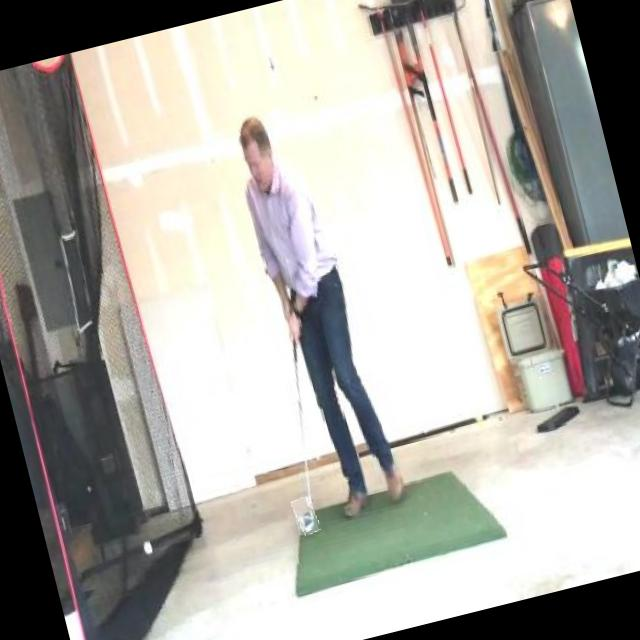club head: (292, 496, 320, 536)
